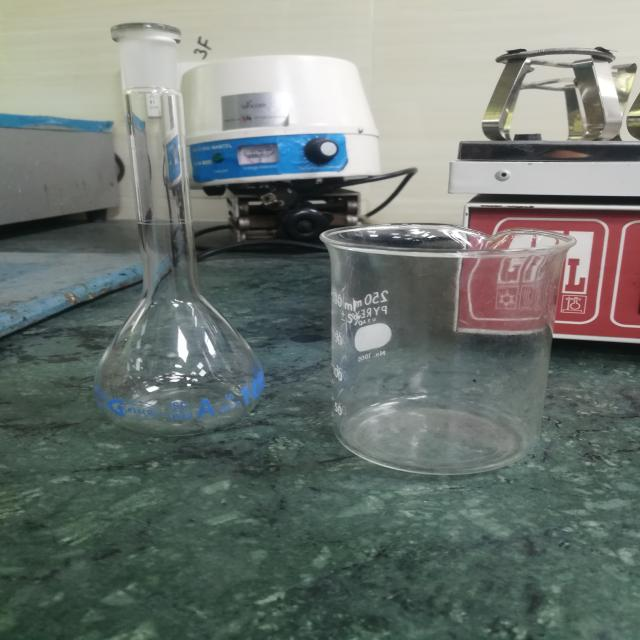Beaker: (306, 197, 586, 493)
Volumetric_Flask: (70, 0, 286, 461)
